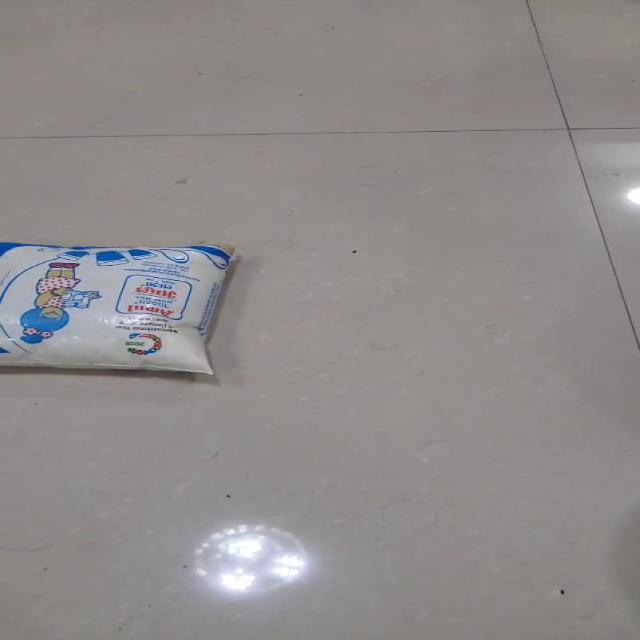plastic: (0, 239, 236, 375)
